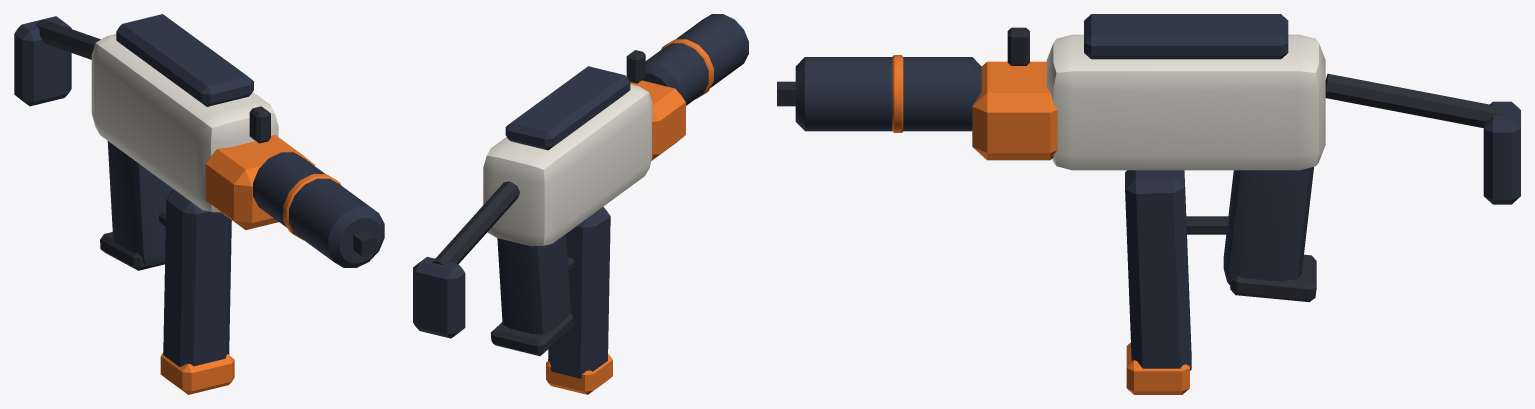
The model's file is wpn_smg.fbx.
3 views of the same model, side by side, from view 1: azimuth 30°, elevation 25°; view 2: azimuth 150°, elevation 25°; view 3: azimuth 270°, elevation 25° (orthographic). The views are drawn at different scales.
Parts seen in each view (by area): view 1: Body, Muzzle; view 2: Body; view 3: Body.
Part boxes in pixels (left/top/right/bottom): Body: left=14, top=14, right=384, bottom=394; Muzzle: left=353, top=231, right=376, bottom=255; Body: left=413, top=14, right=748, bottom=394; Body: left=795, top=14, right=1520, bottom=394.
Bounding box in the file's own units: 0.56 × 2.13 × 4.
2 materials, 1 textured.
